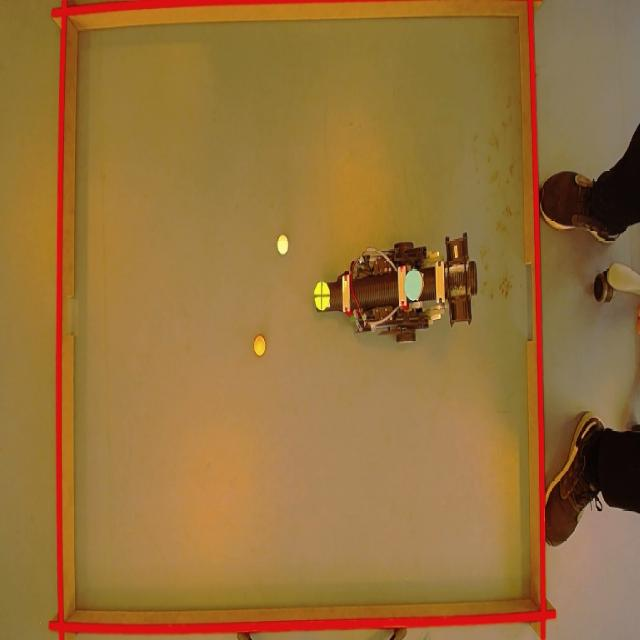orange: (252, 334, 267, 356)
robot: (314, 238, 485, 346)
robot-front: (314, 280, 330, 312)
robot-rear: (404, 264, 422, 300)
white: (274, 234, 289, 254)
